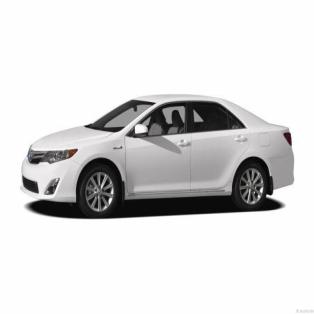Auto: (19, 92, 295, 220)
